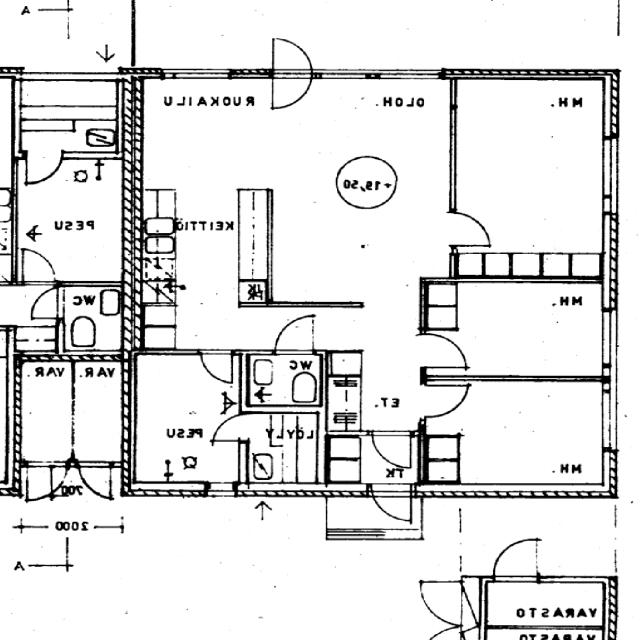door: (492, 536, 536, 582), (372, 482, 412, 532), (273, 68, 312, 115), (273, 34, 312, 80), (371, 430, 411, 471), (418, 334, 465, 368), (450, 212, 496, 246), (276, 314, 315, 354), (418, 384, 464, 416), (78, 461, 111, 497), (208, 414, 248, 442), (201, 348, 233, 382)
